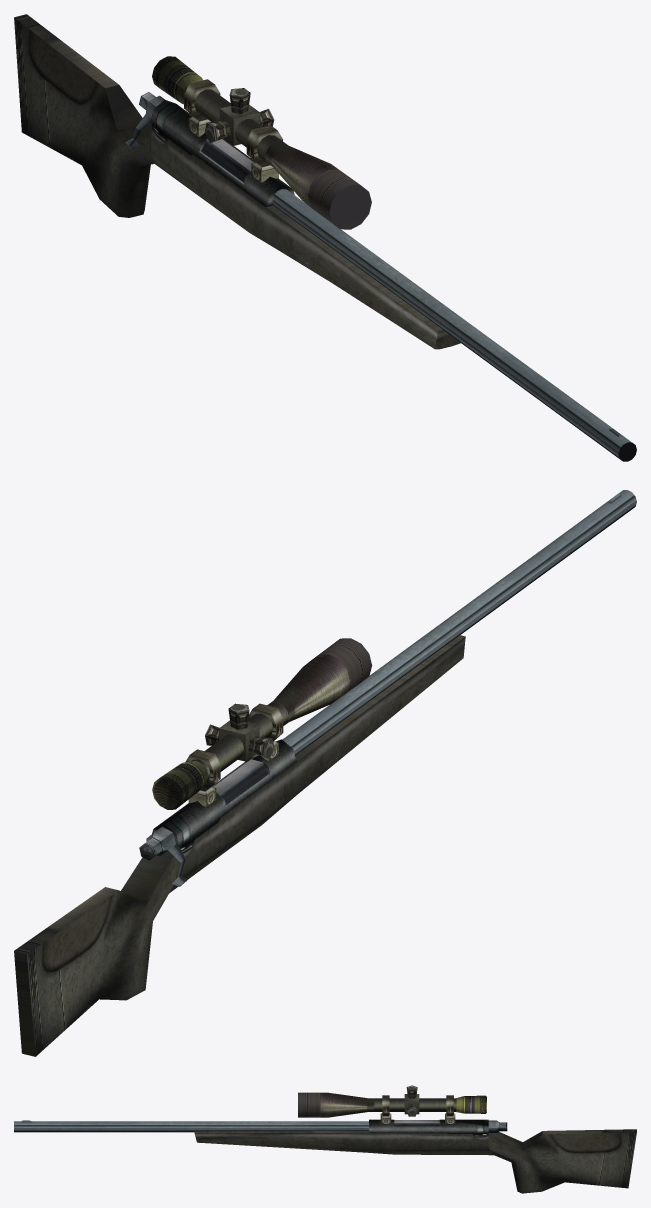
3 views of the same model, one above another, from view 1: azimuth 30°, elevation 25°; view 2: azimuth 150°, elevation 25°; view 3: azimuth 270°, elevation 25° (orthographic). The views are drawn at different scales.
Parts seen in each view (by area): view 1: _w300_3rd; view 2: _w300_3rd; view 3: _w300_3rd.
Part boxes in pixels (x1,y1,x2,y2): _w300_3rd: (14, 14, 636, 461); _w300_3rd: (14, 490, 636, 1056); _w300_3rd: (14, 1085, 636, 1193).
Bounding box in the file's own units: 0.0851 × 0.2755 × 1.52.
Materials: 2 (2 with a texture image).
